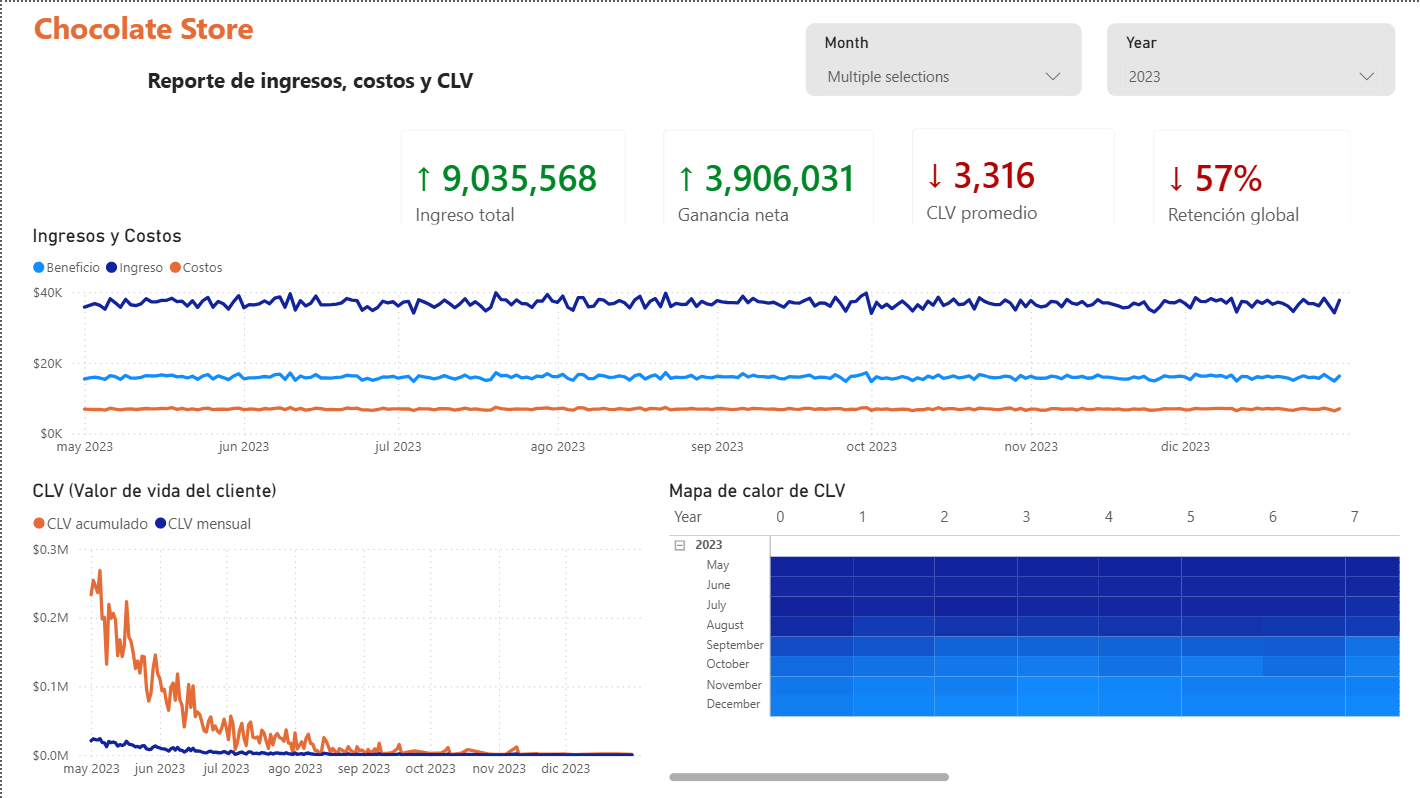

The dashboard page shown, as its layout file describes it:
{"tool":"powerbi","page":{"name":"Page 1","canvas":[1280,720],"ordinal":0},"visuals":[{"type":"cardVisual","title":"Ingreso total","fields":{"Data":["revenue_per_country (3).revenueTendencia"]},"box":[342.6,98.1,231.1,139.8],"z":0},{"type":"cardVisual","fields":{"Data":["monthly_cohort (2).CLVtendencia"]},"box":[803.5,97.5,217.4,137.2],"z":1000},{"type":"cardVisual","fields":{"Data":["revenueCOUNTRY.profitTendencia"]},"box":[579.3,97.9,224.4,139.5],"z":2000},{"type":"cardVisual","fields":{"Data":["monthly_retention.Retention_Tendencia"]},"box":[1021.2,97.7,212.8,139.5],"z":3000},{"type":"lineChart","title":"Ingresos y Costos","fields":{"Y":["Sum(revenueCOUNTRY.profit)","Sum(revenueCOUNTRY.revenue)","Sum(unit_COSTPERPRODUCT.unit_cost)"],"Category":["calendar.date.Variation.Date Hierarchy.Year","calendar.date.Variation.Date Hierarchy.Quarter","calendar.date.Variation.Date Hierarchy.Month","calendar.date.Variation.Date Hierarchy.Day"]},"box":[22.1,201.2,1211.6,218.6],"z":4000},{"type":"slicer","fields":{"Values":["calendar.date.Variation.Date Hierarchy.Month"]},"box":[724.7,19.2,249.1,65.4],"z":5000},{"type":"pivotTable","title":"Mapa de calor de CLV","fields":{"Rows":["calendar.date.Variation.Date Hierarchy.Year","calendar.date.Variation.Date Hierarchy.Month"],"Values":["Sum(monthly_cohort (2).total_monthly_clv)"],"Columns":["monthlyCOHORT.cohort_month"]},"box":[596.5,430.2,668.6,277.9],"z":6000},{"type":"lineChart","title":"CLV (Valor de vida del cliente)","fields":{"Category":["calendar.date.Variation.Date Hierarchy.Year","calendar.date.Variation.Date Hierarchy.Quarter","calendar.date.Variation.Date Hierarchy.Month","calendar.date.Variation.Date Hierarchy.Day"],"Y":["Sum(monthlyCOHORT.total_clv)","Sum(monthlyCOHORT.total_monthly_clv)"]},"box":[22.5,430.6,573.7,278.4],"z":7000},{"type":"slicer","fields":{"Values":["calendar.date.Variation.Date Hierarchy.Year"]},"box":[996.4,19.2,260.4,65.4],"z":8000},{"type":"textbox","box":[23.3,0,512.8,112.8],"z":9000}]}

Visuals, with their boxes in screenshot pixels (x1, y1, x2, y2), scaled from the page's 1280x720 canvas onto the 1420x798 screenshot:
"Ingreso total" cardVisual: Rect(380, 109, 636, 264)
cardVisual - monthly_cohort (2).CLVtendencia: Rect(891, 108, 1133, 260)
cardVisual - revenueCOUNTRY.profitTendencia: Rect(643, 109, 892, 263)
cardVisual - monthly_retention.Retention_Tendencia: Rect(1133, 108, 1369, 263)
"Ingresos y Costos" lineChart: Rect(25, 223, 1369, 465)
slicer - calendar.date.Variation.Date Hierarchy.Month: Rect(804, 21, 1080, 94)
"Mapa de calor de CLV" pivotTable: Rect(662, 477, 1403, 785)
"CLV (Valor de vida del cliente)" lineChart: Rect(25, 477, 661, 786)
slicer - calendar.date.Variation.Date Hierarchy.Year: Rect(1105, 21, 1394, 94)
textbox: Rect(26, 0, 595, 125)
